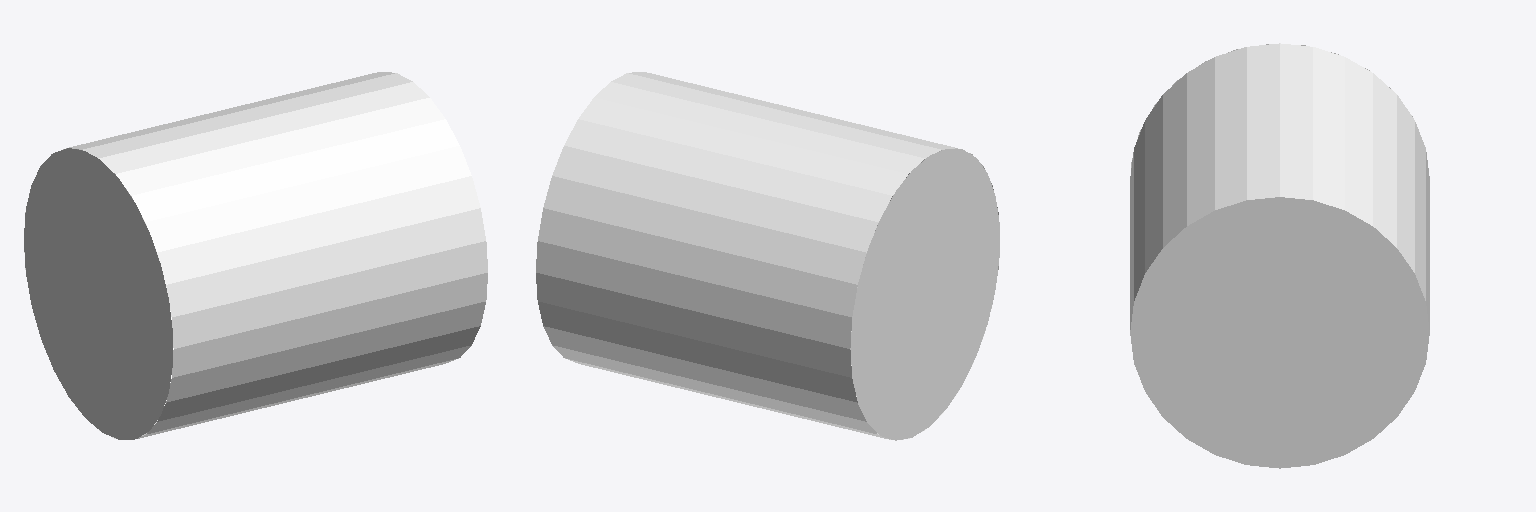
The model's file is Garlic_zabek.obj.
The picture shows the model from 3 angles: view 1: azimuth 30°, elevation 25°; view 2: azimuth 150°, elevation 25°; view 3: azimuth 270°, elevation 25°; orthographic projection.
Visible parts, largest first — view 1: Bryła1; view 2: Bryła1; view 3: Bryła1.
Part boxes in pixels (bbox=[...]): Bryła1: bbox=[24, 72, 487, 439]; Bryła1: bbox=[536, 72, 999, 440]; Bryła1: bbox=[1130, 43, 1429, 468].
Size of the model in its own units: 30.8 by 25.4 by 25.4.